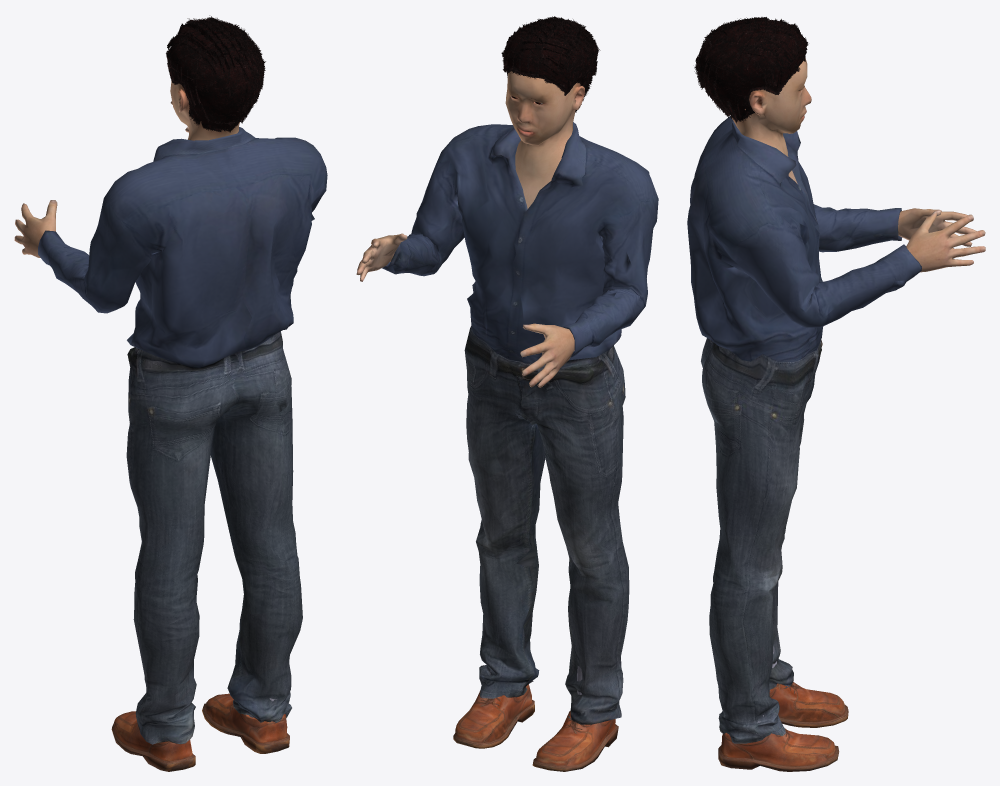
Rendered from talking_3.gltf.
3 renders of one model, left to right at view 1: azimuth 30°, elevation 25°; view 2: azimuth 150°, elevation 25°; view 3: azimuth 270°, elevation 25°, orthographic. The views are drawn at different scales.
Visible parts, largest first — view 1: talking; view 2: talking; view 3: talking.
Part boxes in pixels (<box>): talking: <box>14,15,327,771</box>; talking: <box>356,16,658,771</box>; talking: <box>687,17,985,771</box>.
Size of the model in its own units: 0.5505 by 1.63 by 0.6138.
6 materials, 6 textured.
